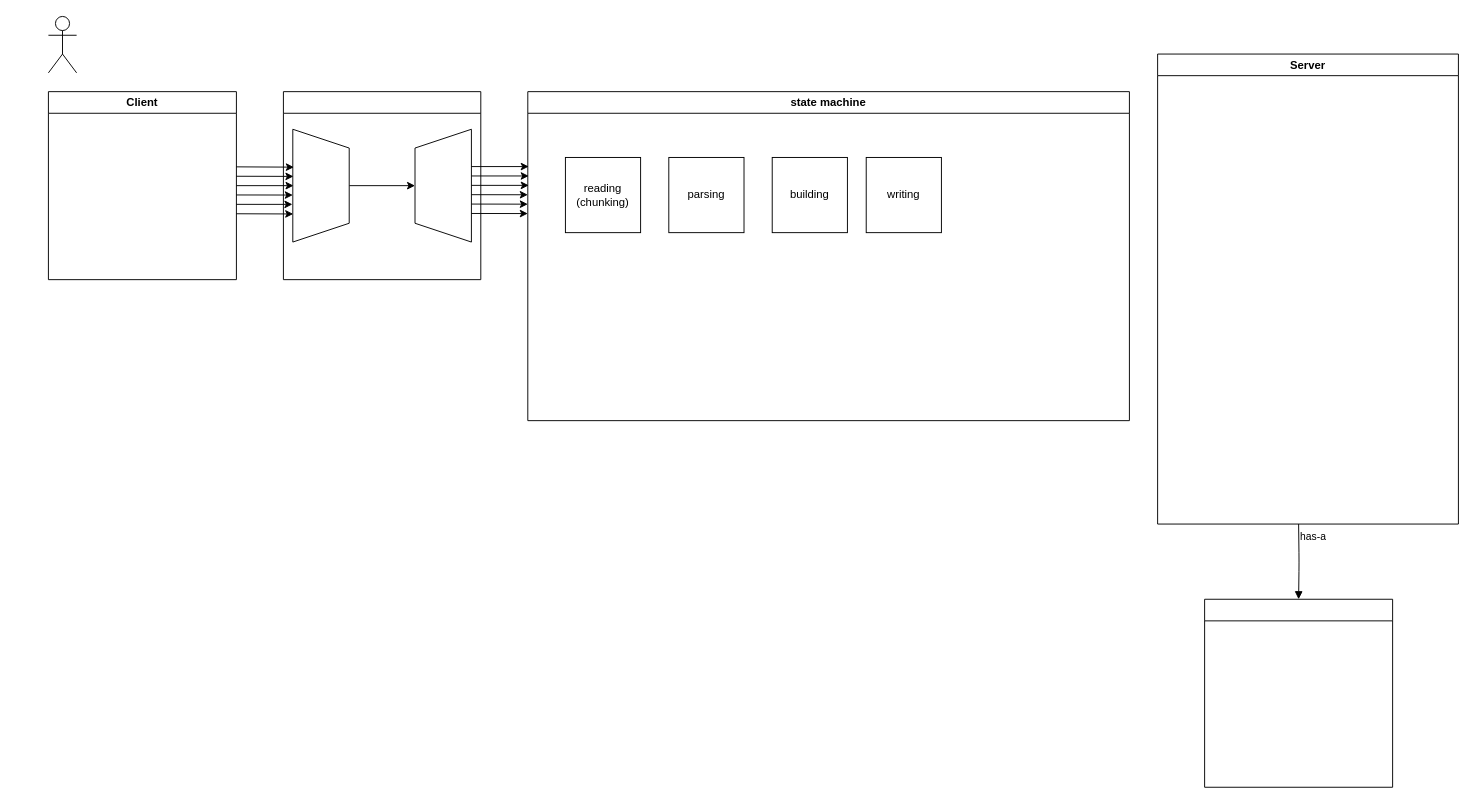
Some shapes in this 1475 by 804 pixel diagram are drawn without their labels. Each missing label, with the box of its shape:
P.Fawaz Al-Zghoul: (47, 16, 77, 73)
polling loop: (282, 91, 481, 280)
ServerConf: (1204, 598, 1393, 787)
